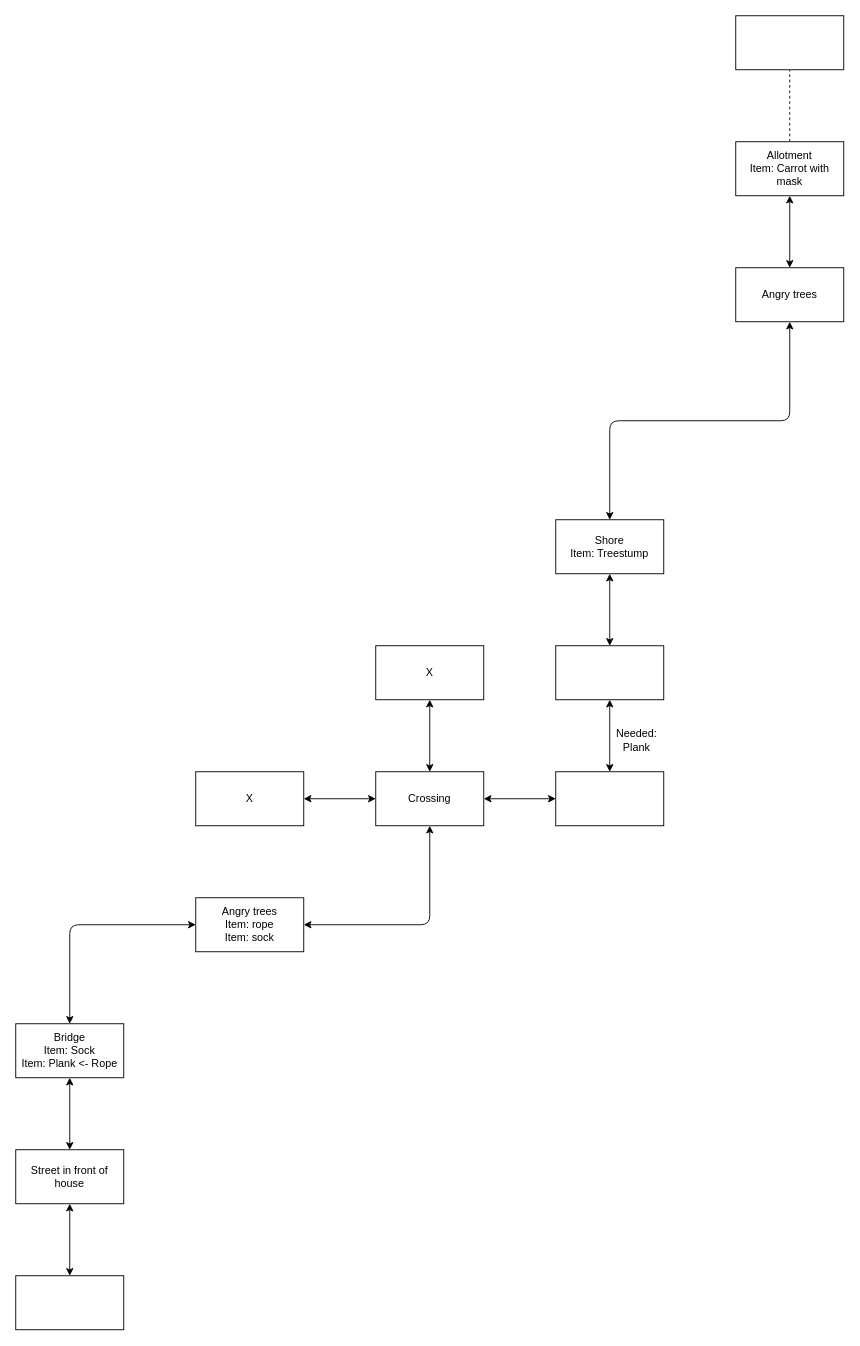
The diagram is 860 pixels wide and 1346 high, and some of its shapes have lost their labels. Each missing label, with the centre of its shape:
House Interaction: PC: (x=69, y=1302)
Otto the boat Item: Sock: (x=609, y=798)
Water crossing: (x=609, y=672)
Water well: (x=789, y=42)
